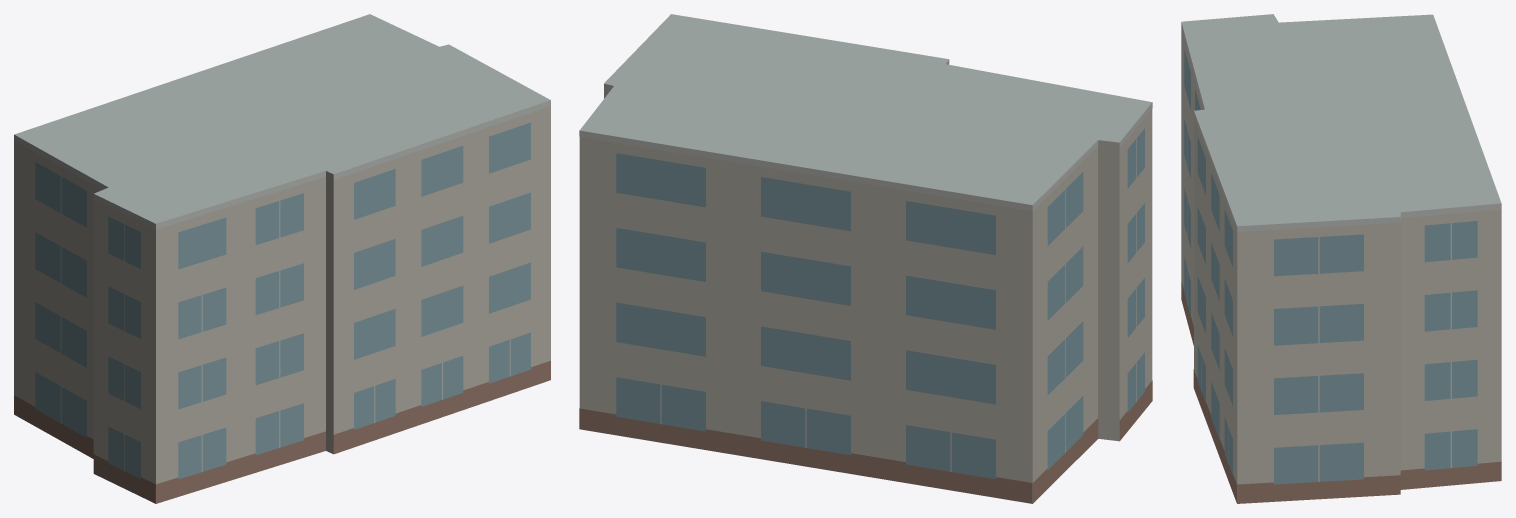
The model's file is survey-upis-32629461.glb.
3 renders of one model, left to right at view 1: azimuth 30°, elevation 25°; view 2: azimuth 150°, elevation 25°; view 3: azimuth 270°, elevation 25°, orthographic. The views are drawn at different scales.
Parts seen in each view (by area): view 1: survey-upis-32629461.tmp; view 2: survey-upis-32629461.tmp; view 3: survey-upis-32629461.tmp.
Part boxes in pixels (left/top/right/bottom): survey-upis-32629461.tmp: left=14, top=14, right=550, bottom=503; survey-upis-32629461.tmp: left=579, top=14, right=1152, bottom=503; survey-upis-32629461.tmp: left=1181, top=14, right=1501, bottom=503.
Bounding box in the file's own units: 19.2 × 11.7 × 12.24.
